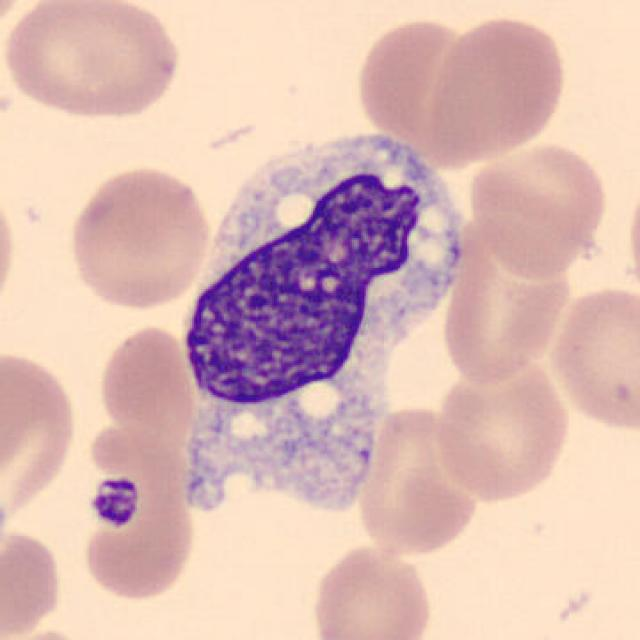Monocyte: (165, 116, 471, 545)
Platelets: (87, 474, 144, 531)
RBC: (352, 11, 500, 166), (423, 12, 571, 166), (0, 0, 185, 123), (64, 162, 215, 312), (430, 356, 574, 506), (464, 137, 612, 280), (354, 400, 484, 561), (438, 235, 574, 386), (76, 448, 201, 606), (0, 345, 82, 529), (546, 280, 638, 434), (305, 539, 437, 640), (94, 321, 199, 437), (0, 526, 68, 638), (86, 467, 174, 550), (0, 176, 21, 322), (624, 166, 640, 302), (0, 0, 37, 49)
